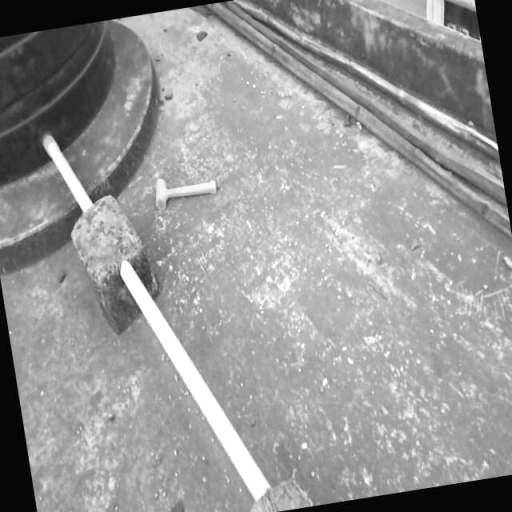mallet: (154, 172, 218, 211)
